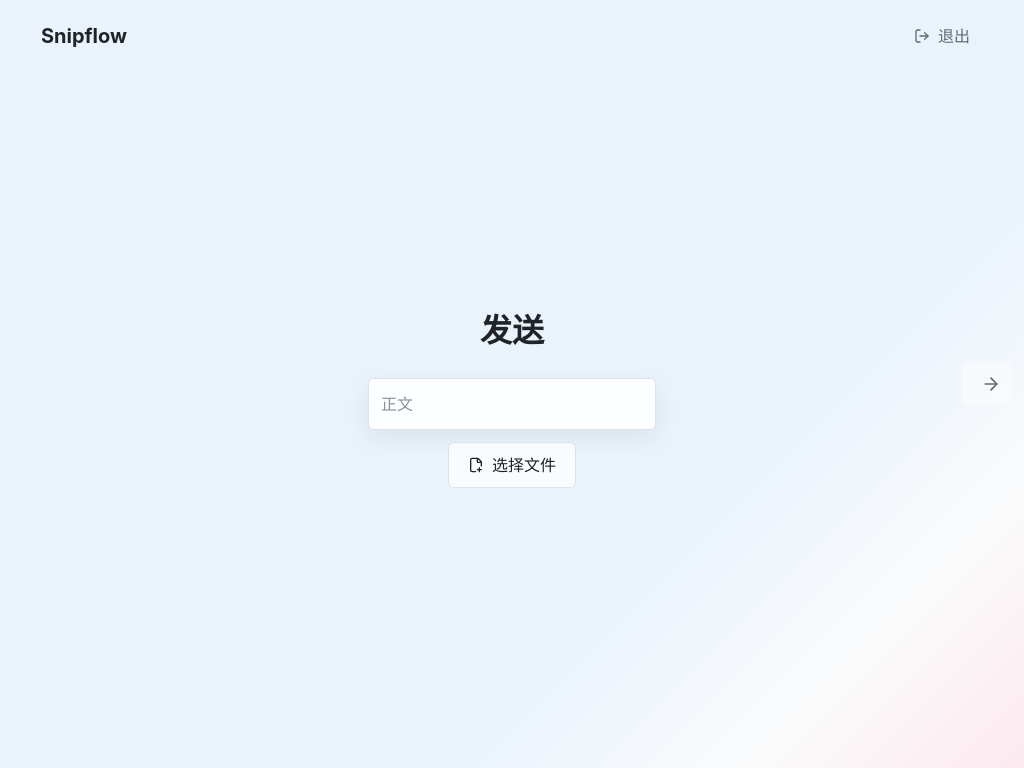
Test case: text transfer flow › maps structured send issues to fields without exposing server values
In the text box labelled "正文": (512,404) [368,378,656,430], type "field mapping"
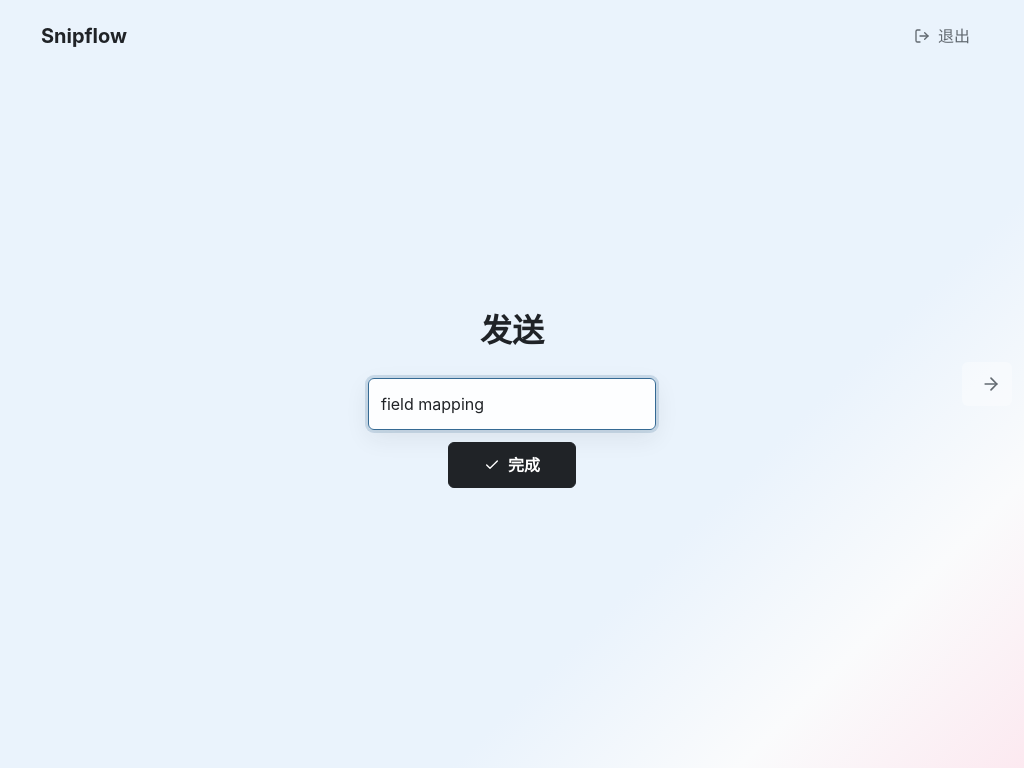
Click the button "完成": (512,465) [448,442,576,488]
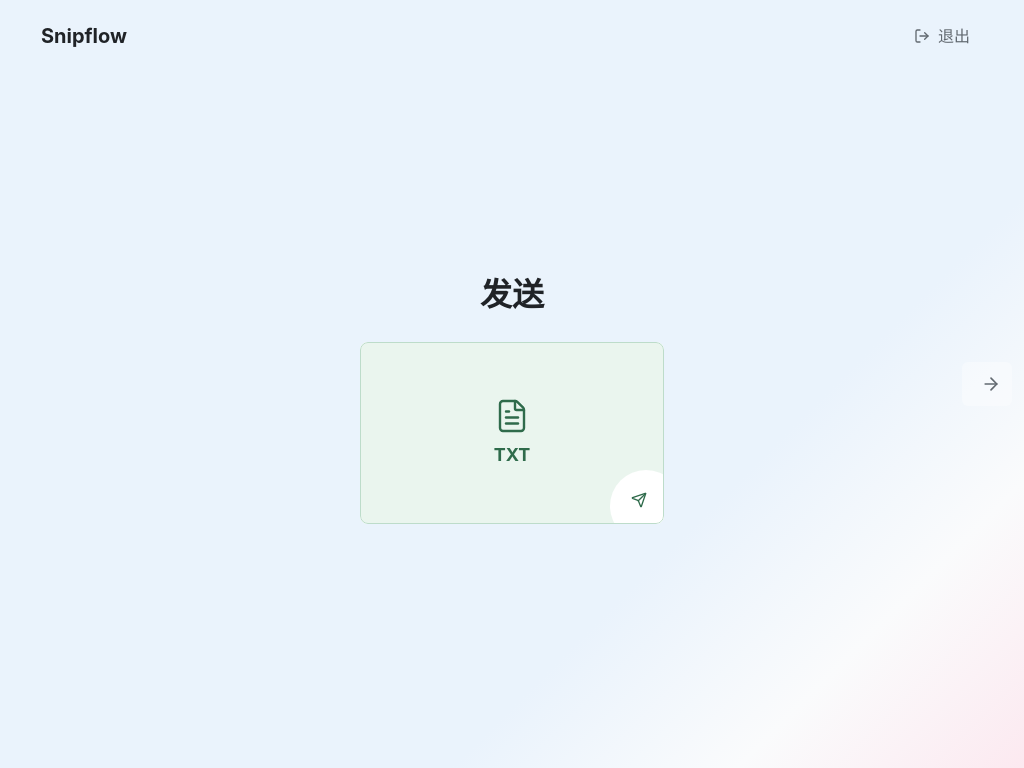
Click the button named "发送文本": (639,500) [619,480,659,520]
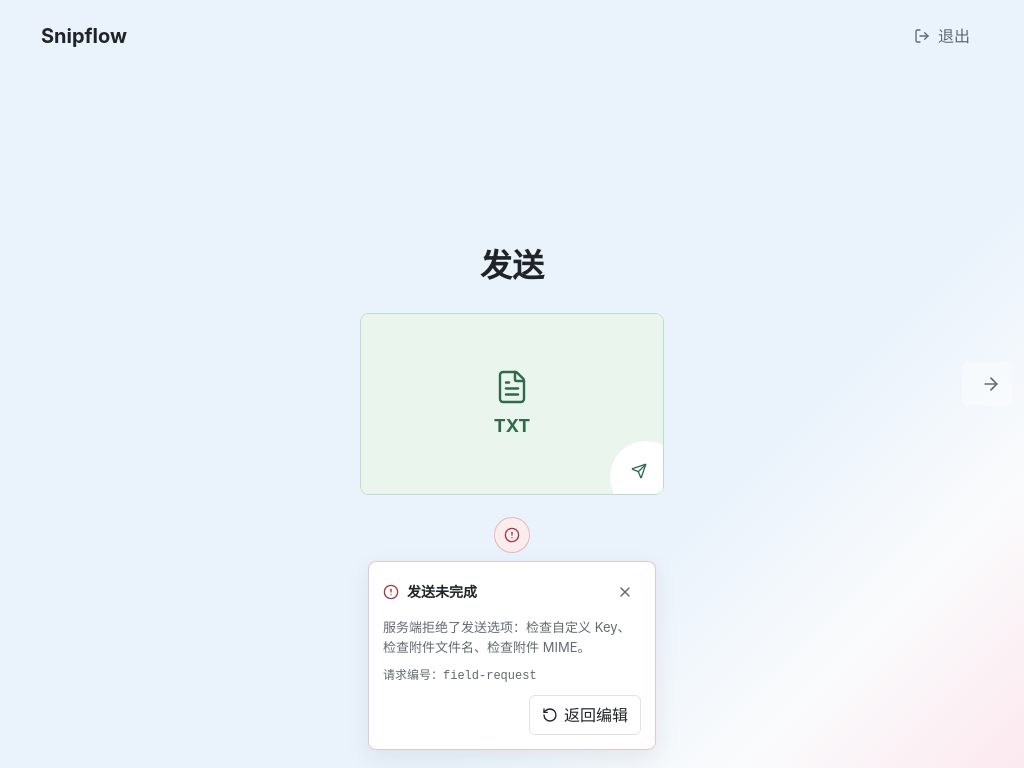
expect the text "服务端拒绝了发送选项：检查自定义 Key、检查附件文件名、检查附件 MIME。" is shown: met, box [383,618,641,657]
expect the text "请求编号：field-request" is shown: met, box [383,669,537,683]
